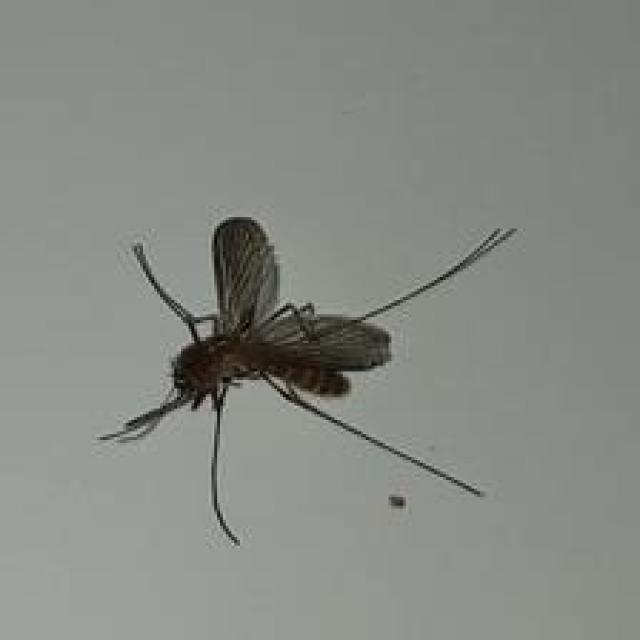Culex: (96, 214, 518, 546)
